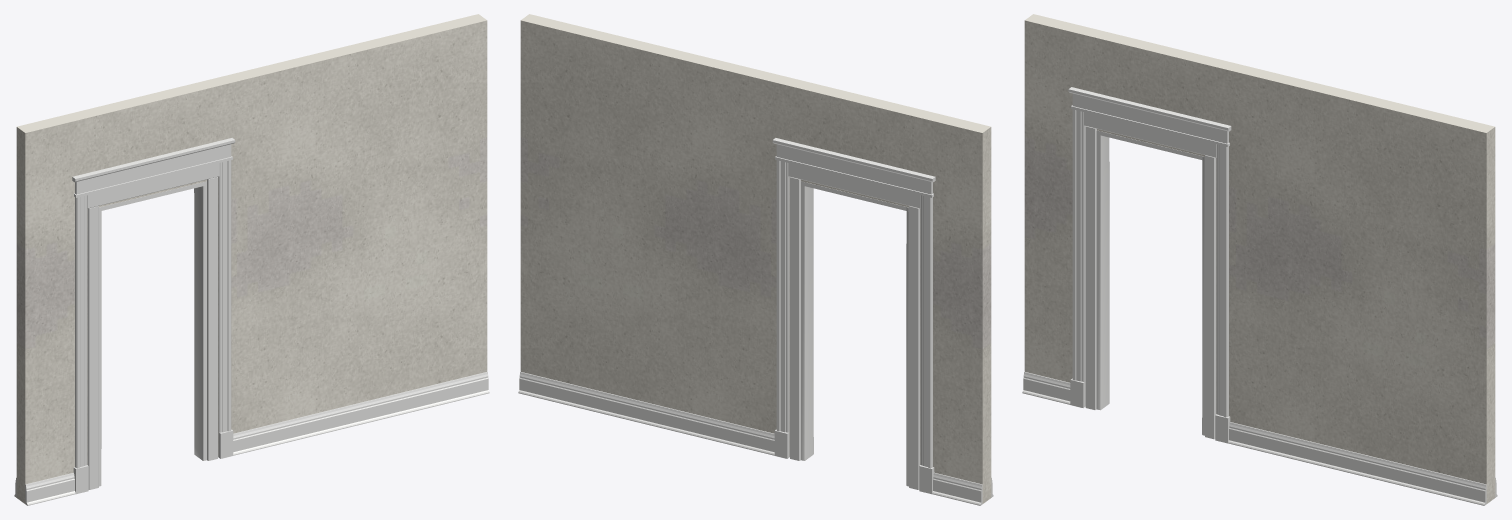
File: rw_bath.glb
The picture shows the model from 3 angles, left to right: view 1: azimuth 30°, elevation 25°; view 2: azimuth 150°, elevation 25°; view 3: azimuth 330°, elevation 25°; orthographic projection.
Visible parts, largest first — view 1: rw_bath_plaster, molduras, rw_bath_frame; view 2: rw_bath_plaster, molduras, rw_bath_frame; view 3: rw_bath_plaster, molduras, rw_bath_frame.
Boxes of the visible parts, x1,y1,x2,y2 form: rw_bath_plaster: [16, 14, 487, 503]; molduras: [14, 138, 489, 505]; rw_bath_frame: [87, 163, 219, 489]; rw_bath_plaster: [520, 14, 991, 503]; molduras: [518, 138, 993, 505]; rw_bath_frame: [788, 163, 920, 489]; rw_bath_plaster: [1024, 14, 1495, 503]; molduras: [1022, 87, 1497, 505]; rw_bath_frame: [1084, 112, 1216, 439].
Bounding box in the file's own units: 3.64 × 2.8 × 0.204.
Materials: 3 (1 with a texture image).
